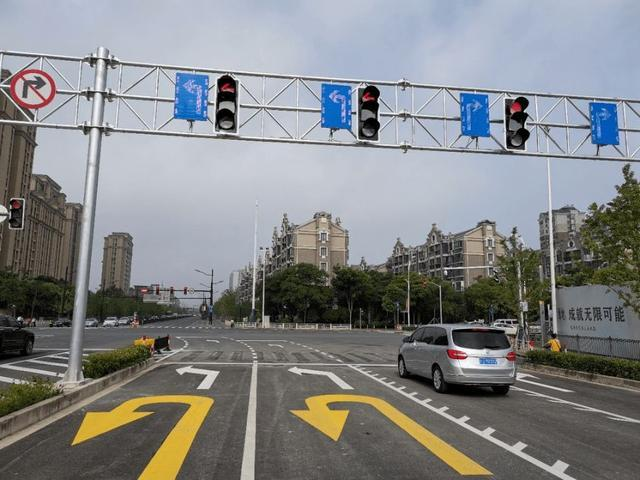car: (396, 324, 519, 396), (0, 323, 34, 357), (102, 318, 118, 328), (84, 319, 100, 328), (52, 320, 71, 327)
person: (545, 333, 562, 354)
sign: (12, 67, 57, 110), (584, 99, 622, 147), (456, 89, 493, 138), (172, 75, 206, 122), (321, 83, 350, 131)
traffic light: (214, 75, 239, 132), (357, 85, 381, 140), (507, 95, 530, 152), (6, 198, 24, 228)
